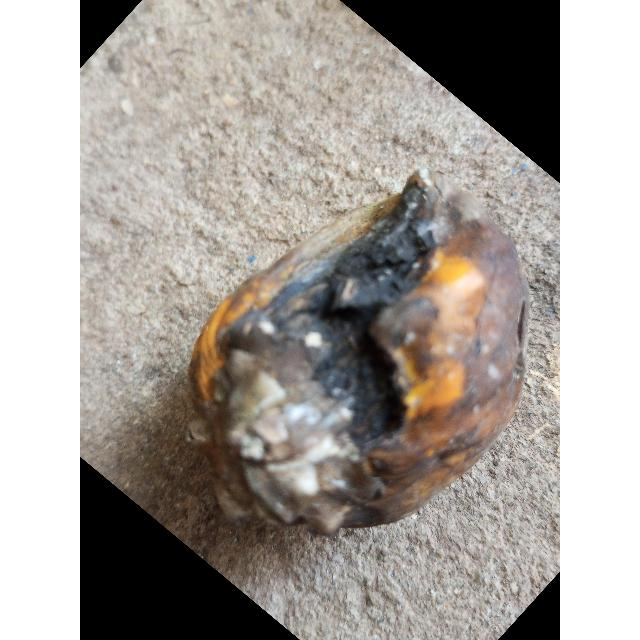damaged: (185, 174, 529, 540)
